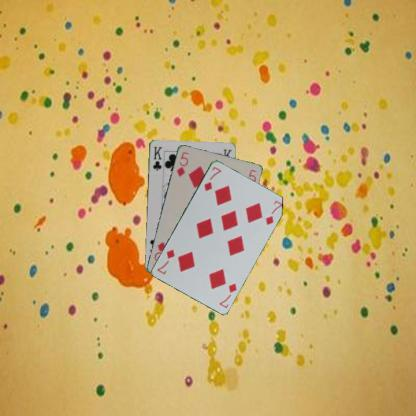5d: (174, 149, 190, 177)
7d: (201, 163, 222, 192), (217, 280, 238, 309)
Kc: (150, 144, 163, 171)
